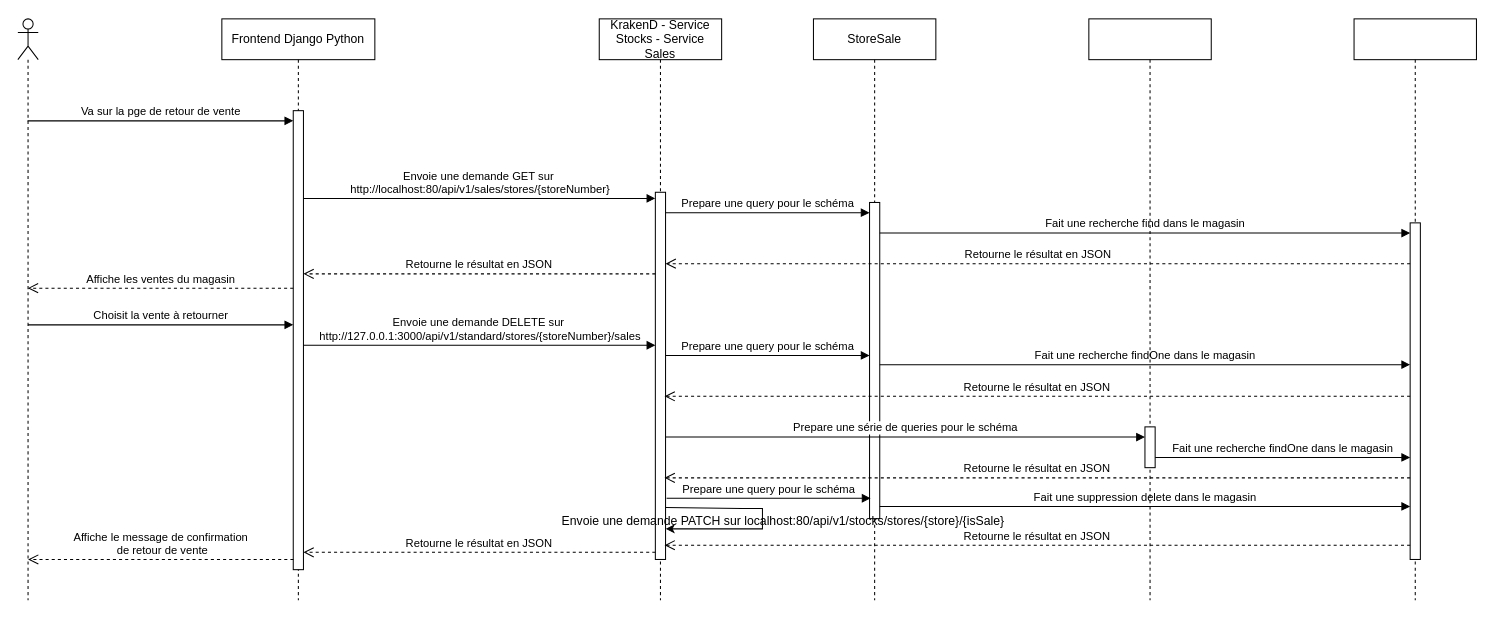
This 1494x618 diagram has some shape labels left out. The box of each missing label's shape, as (x1, y1, x2, y2) in pixels:
Base de données MongoDB: (1353, 18, 1476, 600)
StoreInventory: (1088, 18, 1211, 600)
